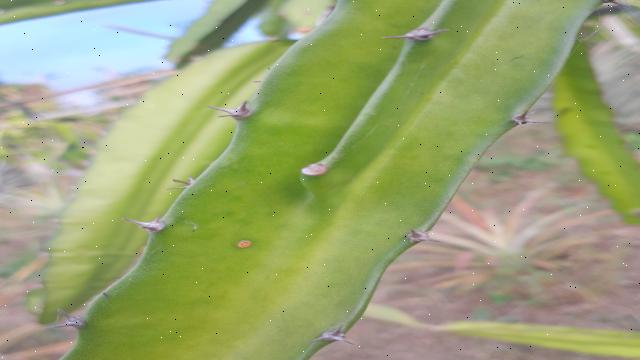stemcanker: (233, 237, 257, 252)
